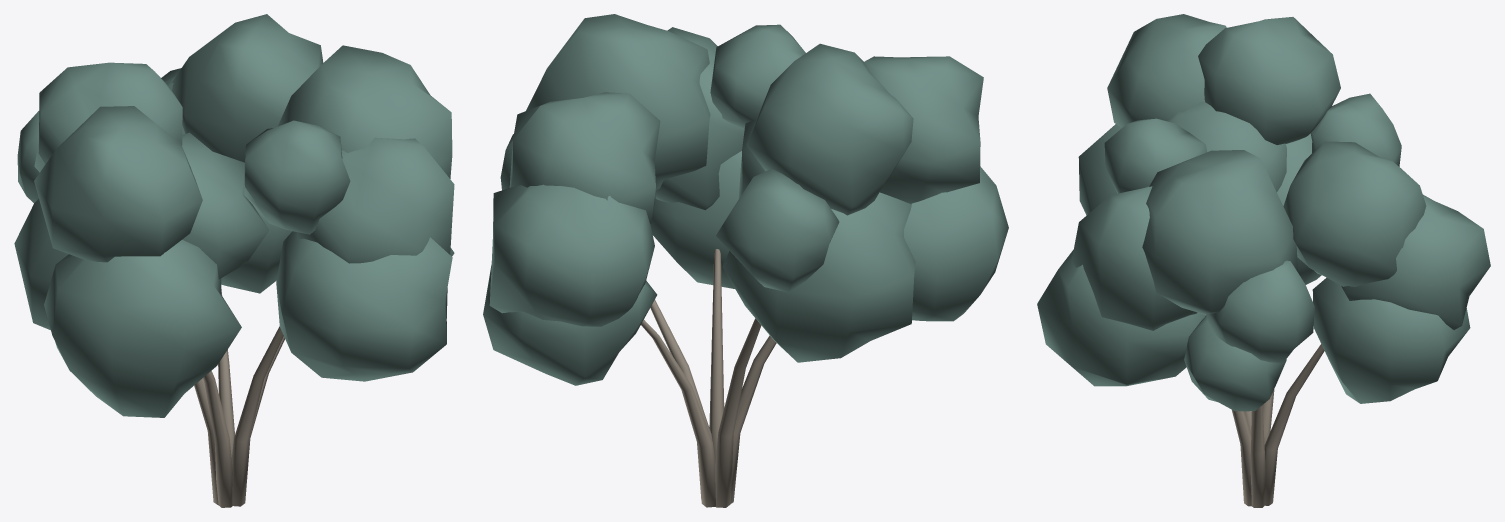
The model's file is alpine-and-arctic-biomes-dwarf-mountain-pine-a9bf34c9__20928.glb.
3 views of the same model, side by side, from view 1: azimuth 30°, elevation 25°; view 2: azimuth 150°, elevation 25°; view 3: azimuth 270°, elevation 25° (orthographic). The views are drawn at different scales.
Visible parts, largest first — view 1: dwarf-mountain-pine; view 2: dwarf-mountain-pine; view 3: dwarf-mountain-pine.
Boxes of the visible parts, left/top/right/bottom form: dwarf-mountain-pine: left=14, top=14, right=454, bottom=507; dwarf-mountain-pine: left=483, top=14, right=1008, bottom=507; dwarf-mountain-pine: left=1037, top=14, right=1490, bottom=507.
Bounding box in the file's own units: 3.19 × 3.27 × 3.13.
